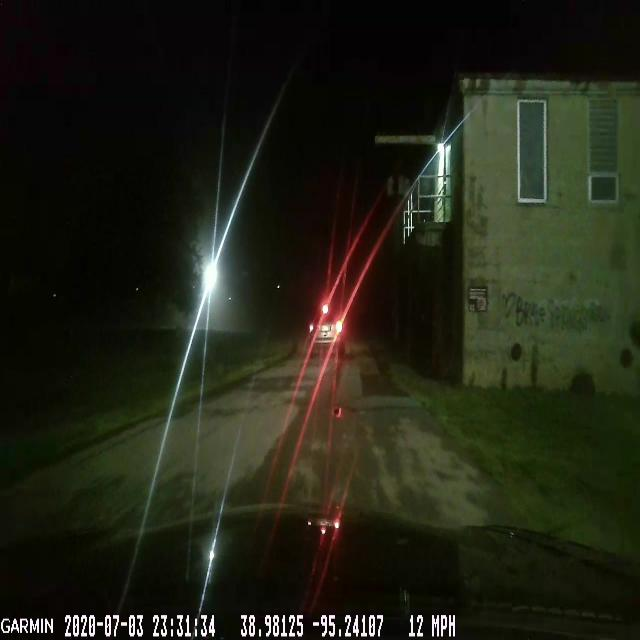Pothole: (322, 392, 358, 428)
